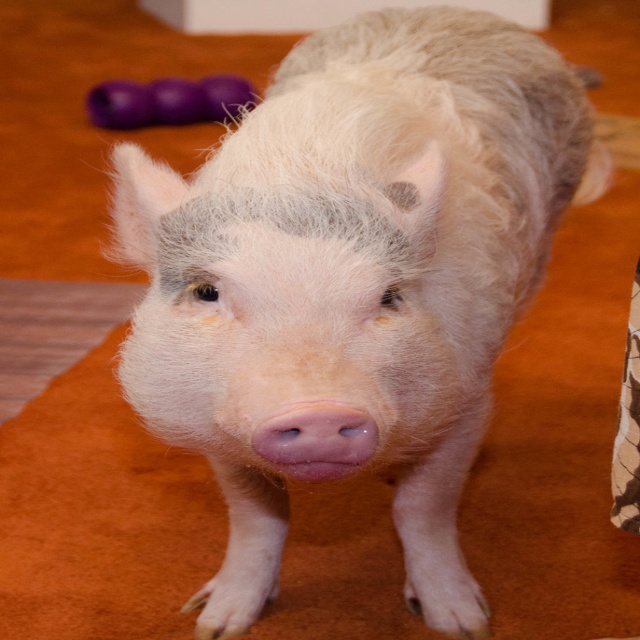Pig: (89, 3, 601, 639)
